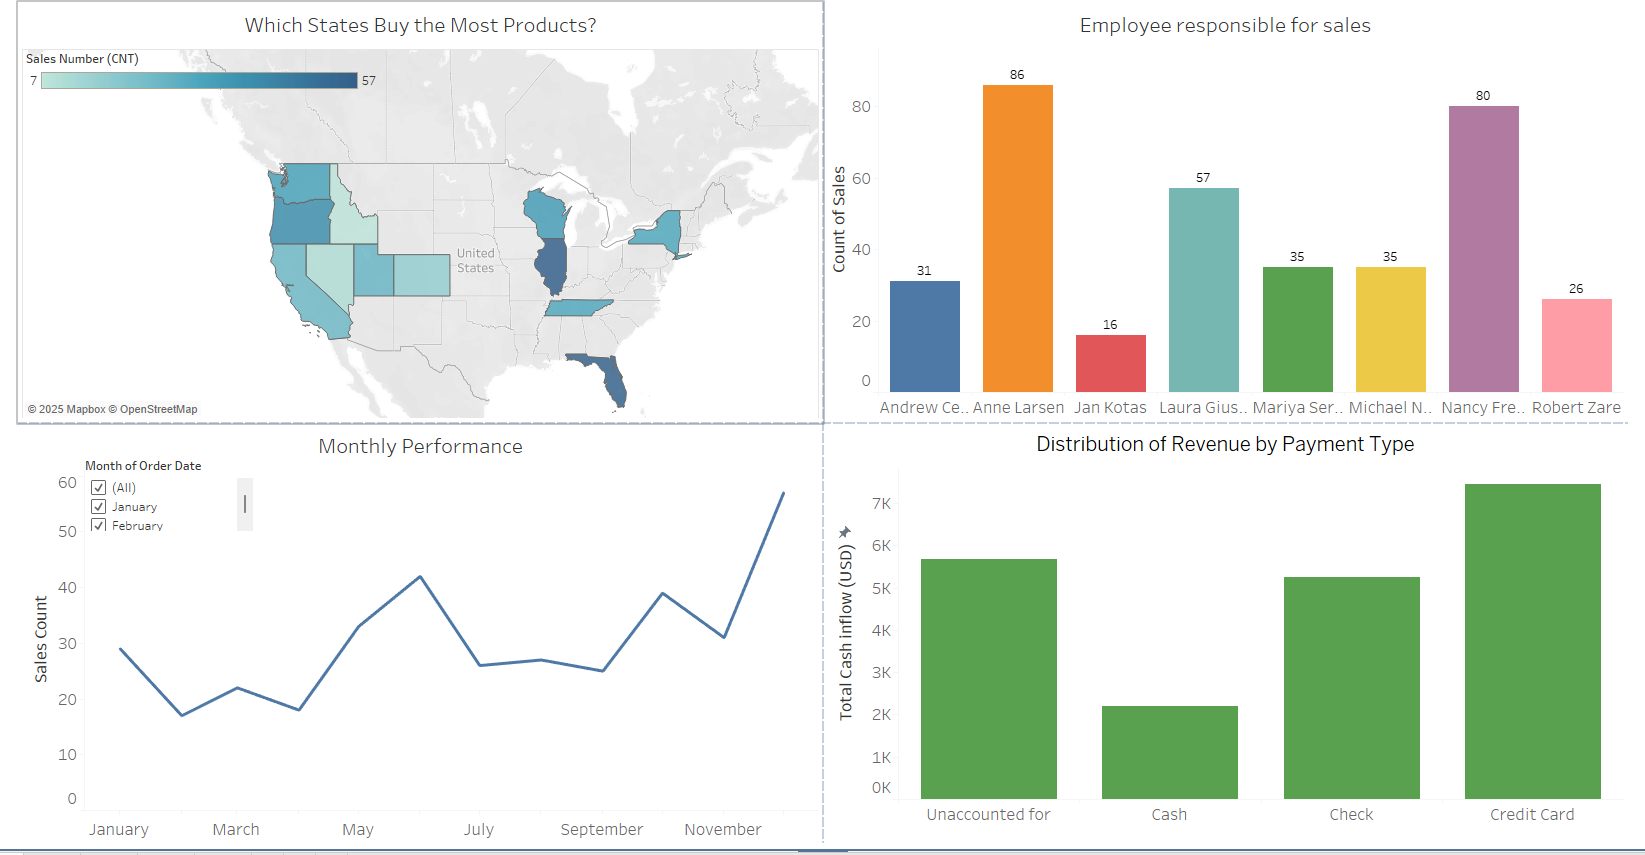

This screenshot's page, from the dashboard's own definition file:
{"tool":"tableau","page":{"name":"Dashboard 1","canvas":[1000,1000],"units":"permille","ordinal":0},"visuals":[{"type":"worksheet","title":"Sheet 1","mark":"Multipolygon","box":[12.3,9.3,487.7,490.7]},{"type":"worksheet","title":"Sheet 3","mark":"Automatic","rows":["Sales!order_CBD1F0D96751488F9945D8BF29C55117"],"cols":["SalesPersonName"],"box":[500,9.3,487.7,490.7]},{"type":"legend","title":"Sheet 1","param":"[federated.1ew0h0x1qx6sh01bca5wz0mgim7d].[__tableau_internal_object_id__].[cnt:S","box":[17,65.3,215.2,88.7]},{"type":"worksheet","title":"Sheet 2","mark":"Automatic","rows":["Sales!order_CBD1F0D96751488F9945D8BF29C55117"],"cols":["OrderDate"],"box":[12.3,500,487.7,490.7]},{"type":"worksheet","title":"Sheet 4","mark":"Automatic","rows":["Quantity"],"cols":["PaymentType"],"box":[500,500,487.7,490.7]},{"type":"filter","title":"Sheet 2","param":"[federated.1ew0h0x1qx6sh01bca5wz0mgim7d].[mn:OrderDate:ok]","box":[52.7,540.3,101.8,86.4]}]}

Visuals, with their boxes on the dashboard's canvas, which has no fixed pixel size, in thousandths of its width and height (x1, y1, x2, y2). These are canvas units, not pixel positions in the 1645x855 screenshot, which may show the page scaled, cropped or inside an application window:
"Sheet 1" worksheet (Multipolygon marks): region(12, 9, 500, 500)
"Sheet 3" worksheet: region(500, 9, 988, 500)
"Sheet 1" legend: region(17, 65, 232, 154)
"Sheet 2" worksheet: region(12, 500, 500, 991)
"Sheet 4" worksheet: region(500, 500, 988, 991)
"Sheet 2" filter: region(53, 540, 154, 627)
